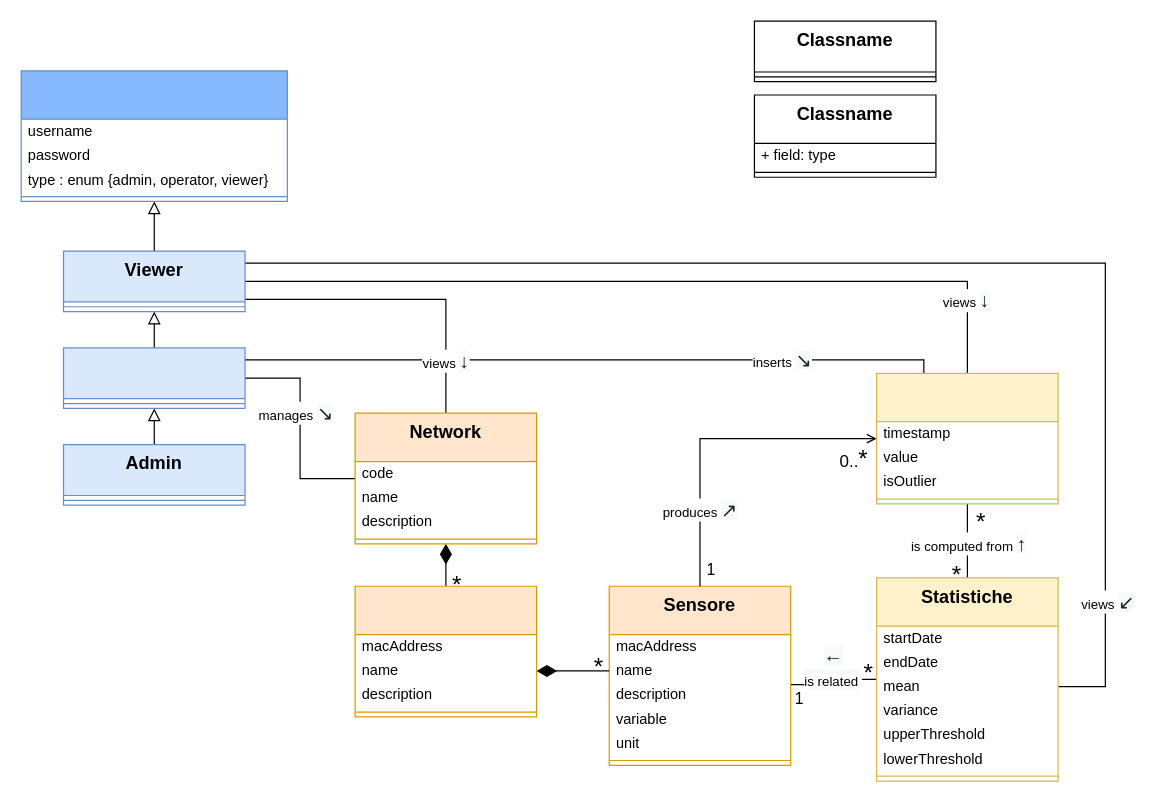
This 1154x802 diagram has some shape labels left out. The shapes that lost their labels are listed below. From the top down, each one's box as (x1, y1, x2, y2) in pixels, then its label:
(20, 70, 287, 201): Utente
(62, 347, 245, 408): Operator
(875, 372, 1058, 504): Misurazione
(354, 585, 537, 717): Gateway
